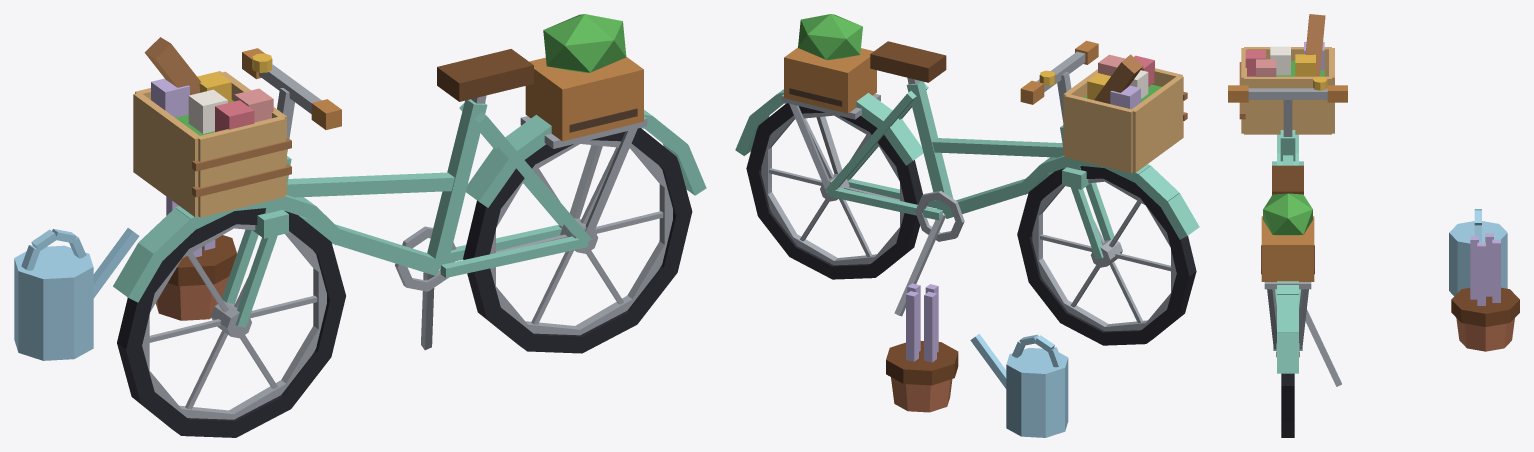
Rendered from CatCafe_Lawn_BicycleWithBasket.glb.
3 views of the same model, side by side, from view 1: azimuth 30°, elevation 25°; view 2: azimuth 150°, elevation 25°; view 3: azimuth 270°, elevation 25° (orthographic). The views are drawn at different scales.
Visible parts, largest first — view 1: CatCafe_Lawn_BicycleWithBasket; view 2: CatCafe_Lawn_BicycleWithBasket; view 3: CatCafe_Lawn_BicycleWithBasket.
Boxes of the visible parts, x1=… form: CatCafe_Lawn_BicycleWithBasket: x1=14, y1=14, x2=706, y2=437; CatCafe_Lawn_BicycleWithBasket: x1=735, y1=14, x2=1199, y2=437; CatCafe_Lawn_BicycleWithBasket: x1=1228, y1=14, x2=1519, y2=437.
Bounding box in the file's own units: 3.26 × 2.11 × 1.99.
Materials: 1 (1 with a texture image).
